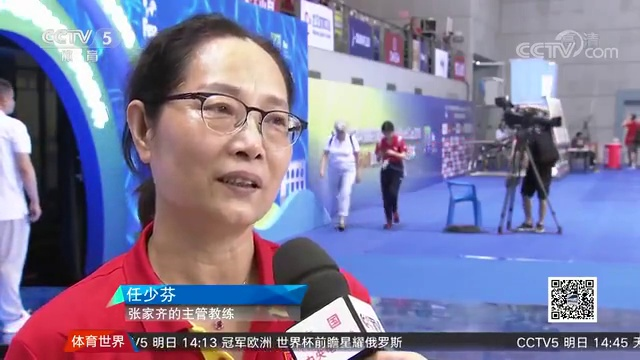face: (142, 29, 293, 223)
